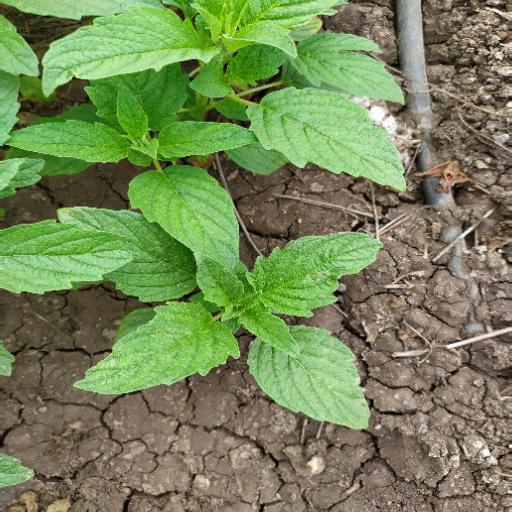crop: (1, 1, 415, 439)
